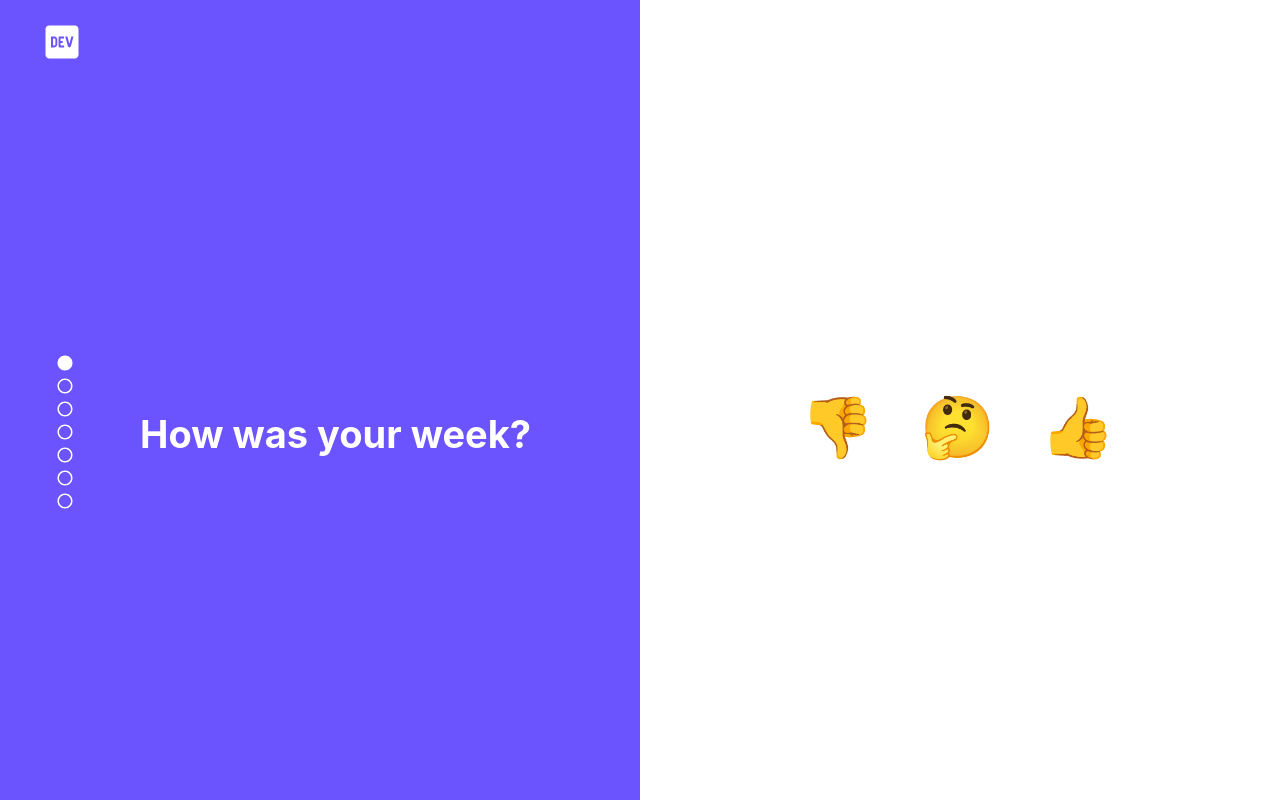
Test case: SurveyCarousel Component › renders survey questions correctly
Expected: the heading "How was your week?" is shown, [140,411,531,457]
Click the 3rd icon with class "navigation-circle" at (65, 408), box [56,400,74,418]
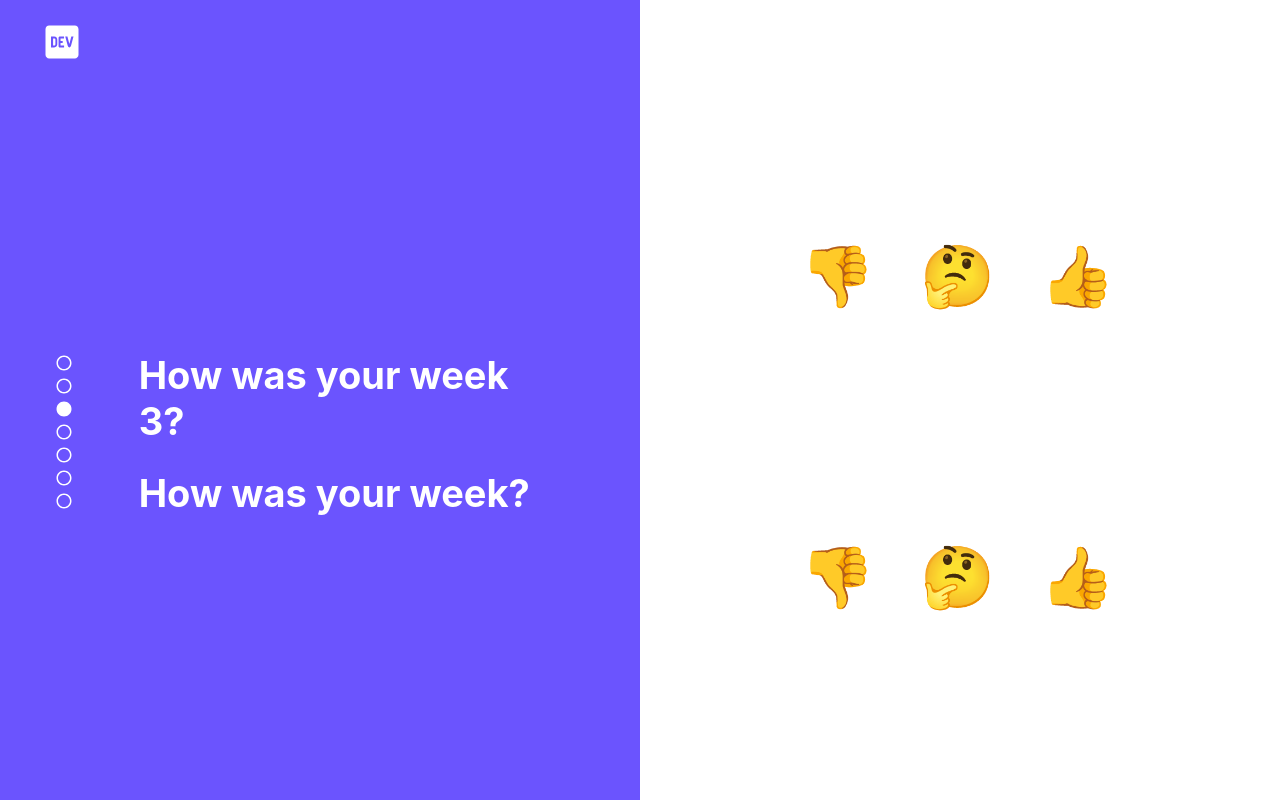
Expected: the heading "How was your week 3?" is shown, [139,352,508,444]
